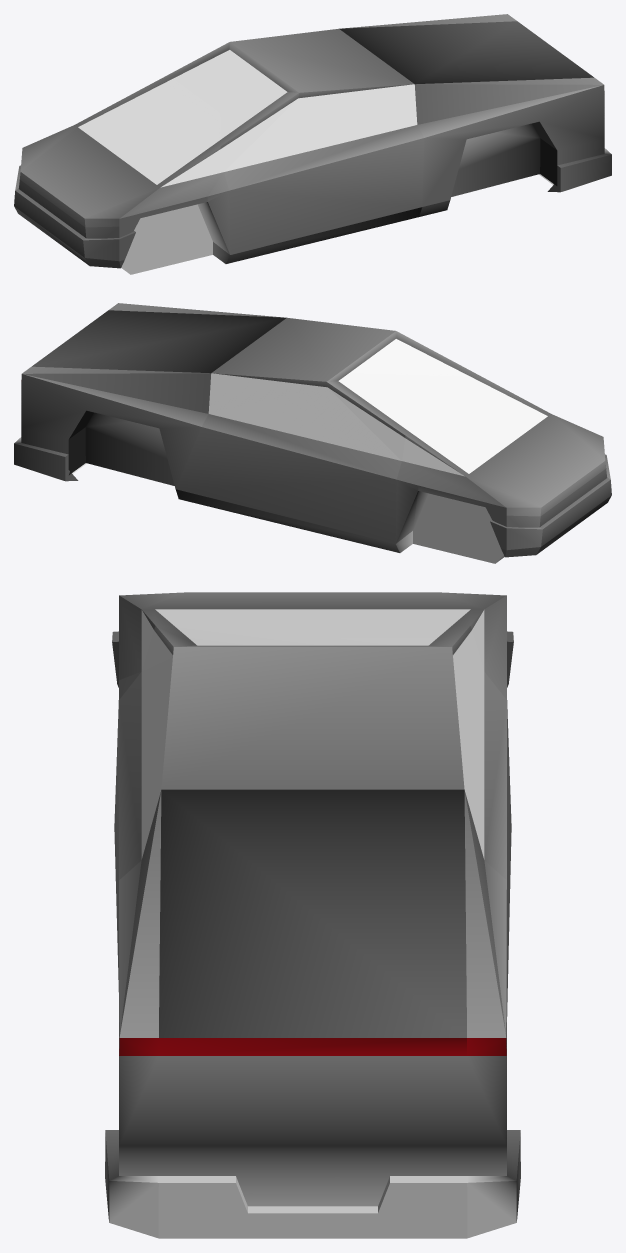
Rendered from vehicle_cybertruck.fbx.
3 renders of one model, top to bottom at view 1: azimuth 30°, elevation 25°; view 2: azimuth 150°, elevation 25°; view 3: azimuth 270°, elevation 25°, orthographic. The views are drawn at different scales.
Visible parts, largest first — view 1: Cybertruck; view 2: Cybertruck; view 3: Cybertruck.
Boxes of the visible parts, x1,y1,x2,y2 form: Cybertruck: [14, 14, 611, 274]; Cybertruck: [14, 303, 611, 563]; Cybertruck: [105, 592, 520, 1238].
Size of the model in its own units: 597 by 177 by 209.
